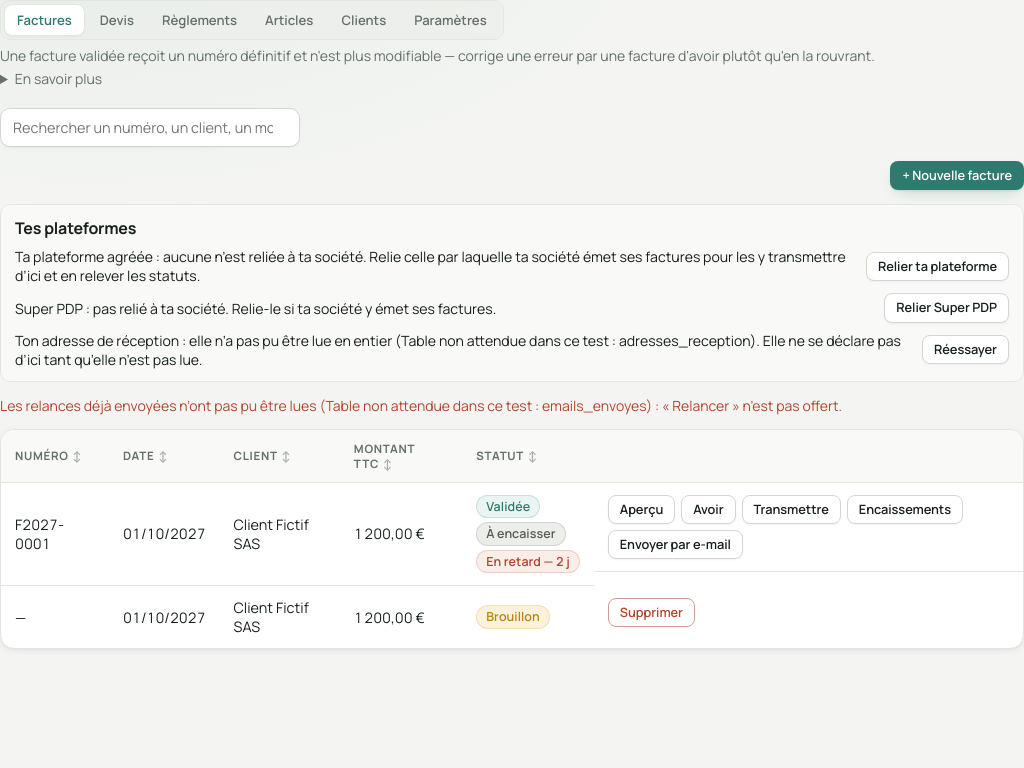
Test: FacturesTab en mode client — le garde des mots › la transmission d’une facture prête, aucune plateforme reliée : rien du cabinet dans ce que lit le client
The image size is (1024, 768).
Expected: the text "F2027-0001" is shown, [15,515,64,553]
Click the button "Transmettre". click: point(791, 509)
box: [742,495,841,524]
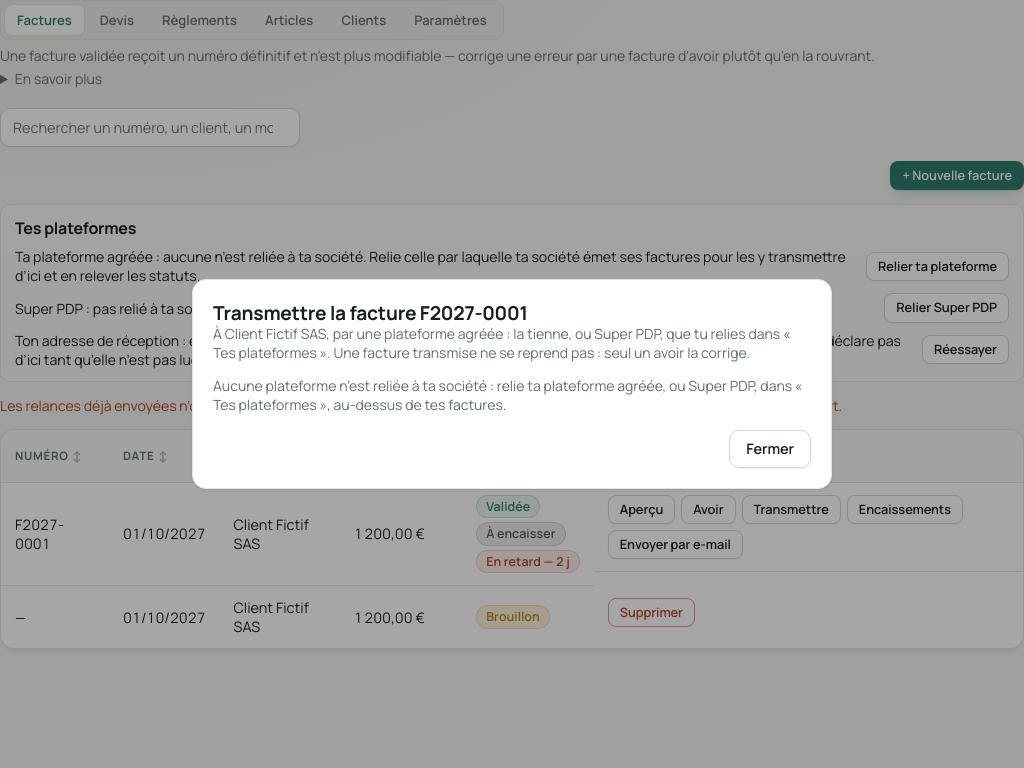
Now the text "Aucune plateforme n’est reliée" is shown, box [213,376,802,414]
